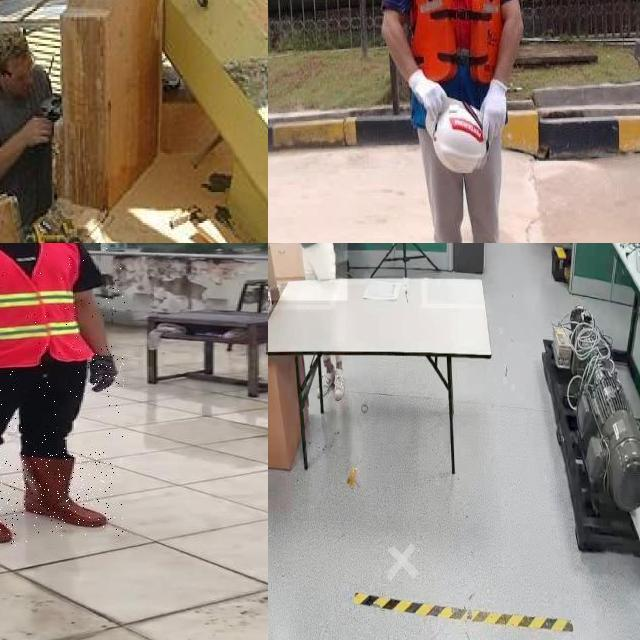No_Ear-Protection: (0, 25, 37, 102)
boots: (22, 451, 112, 528), (0, 461, 18, 547)
head_helmet: (421, 97, 490, 176)
person: (356, 0, 563, 243), (0, 243, 125, 545)
shoes: (330, 364, 348, 405)
vest: (401, 0, 511, 126), (0, 243, 97, 367)
